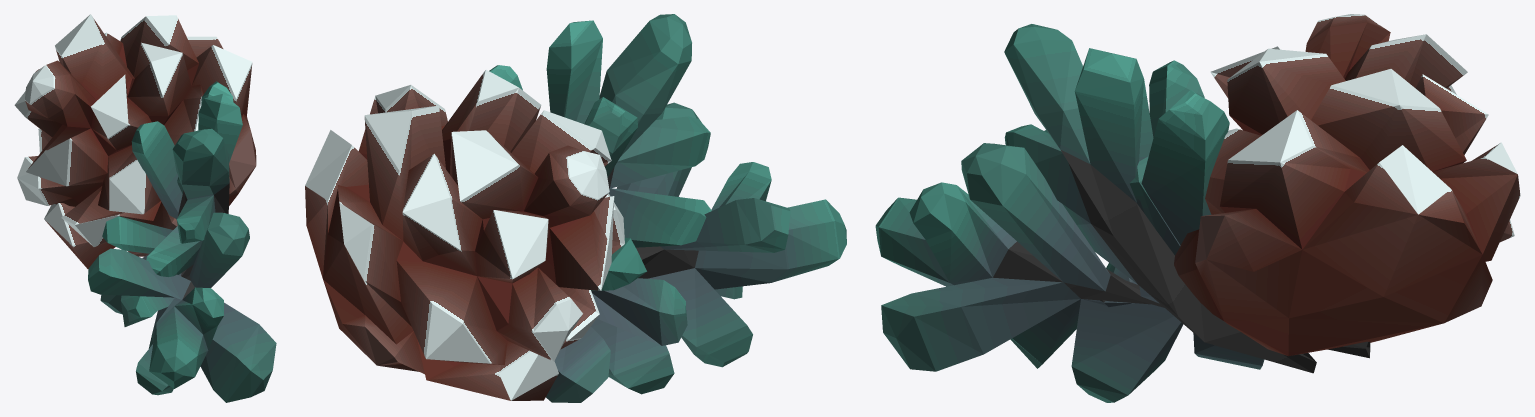
The model's file is CharSkyKid_Horn_Pinecone.glb.
The picture shows the model from 3 angles, left to right: view 1: azimuth 30°, elevation 25°; view 2: azimuth 150°, elevation 25°; view 3: azimuth 270°, elevation 25°; orthographic projection. The views are drawn at different scales.
Parts seen in each view (by area): view 1: CharSkyKid_Horn_Pinecone; view 2: CharSkyKid_Horn_Pinecone; view 3: CharSkyKid_Horn_Pinecone.
Part boxes in pixels (box(x1,y1,x2,y2)): CharSkyKid_Horn_Pinecone: box(14, 14, 276, 402); CharSkyKid_Horn_Pinecone: box(305, 14, 846, 402); CharSkyKid_Horn_Pinecone: box(875, 14, 1520, 402).
Size of the model in its own units: 1.23 by 1.3 by 1.97.
1 material, 1 textured.
